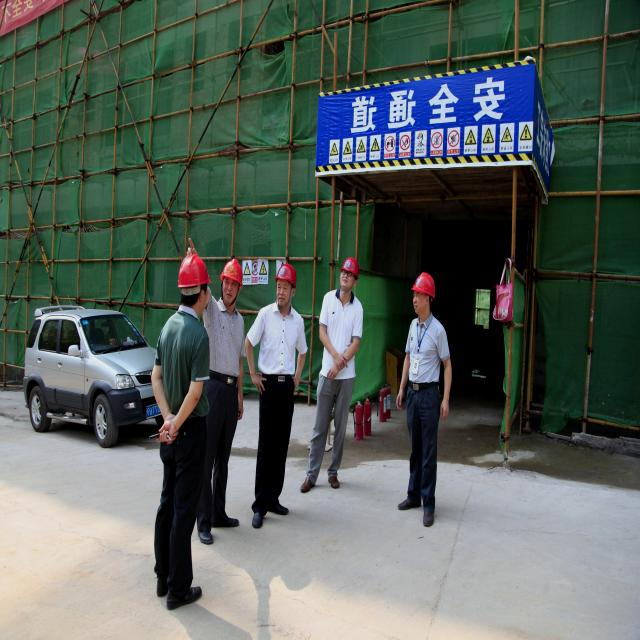face_nomask: (407, 287, 429, 321), (273, 280, 293, 309), (220, 276, 240, 304), (338, 266, 357, 290)
glasses: (340, 267, 354, 280)
hand_noglove: (156, 412, 177, 452), (392, 381, 408, 412), (439, 392, 455, 422), (250, 369, 267, 396), (324, 362, 342, 386), (233, 391, 246, 424), (331, 351, 347, 374), (290, 373, 302, 395)
head_helmet: (177, 255, 211, 288), (220, 257, 244, 285), (411, 271, 436, 297), (274, 264, 296, 286), (340, 257, 360, 279)
person: (152, 253, 210, 612), (246, 262, 309, 524), (196, 258, 247, 545), (397, 271, 450, 527), (316, 256, 364, 492)
shoes: (164, 580, 203, 610), (204, 509, 241, 532), (195, 513, 216, 545), (299, 468, 320, 496), (397, 493, 425, 512), (420, 502, 440, 528), (250, 503, 268, 531), (266, 496, 290, 514), (326, 466, 343, 491), (111, 615, 115, 617)
